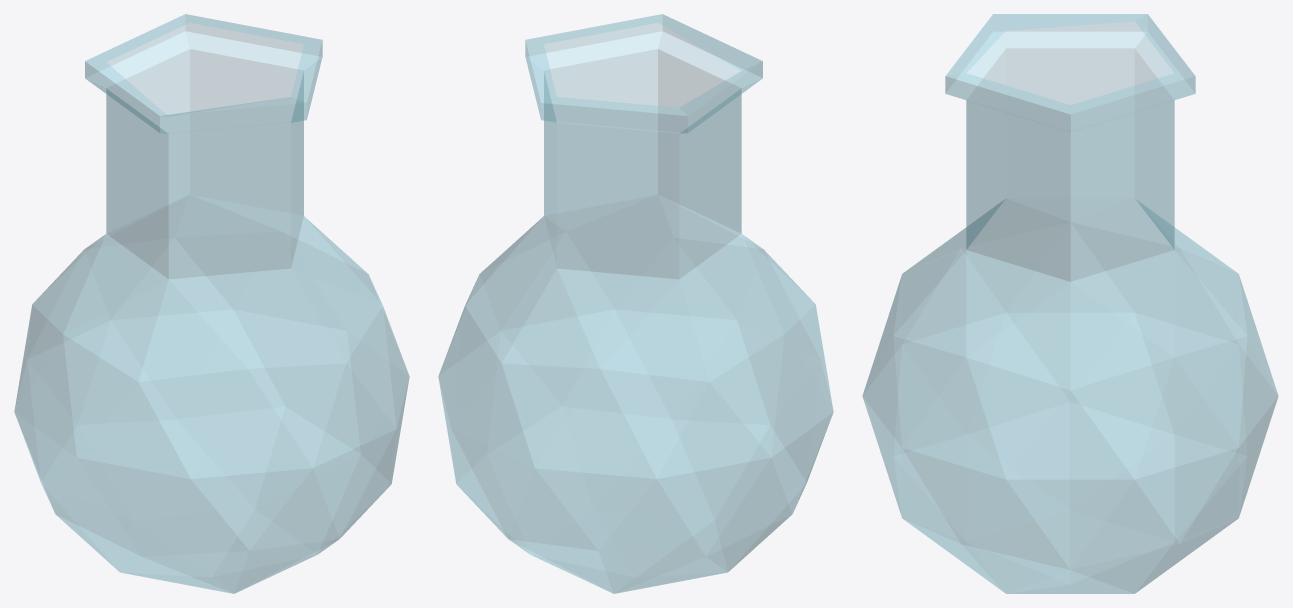
Rendered from Bottle.glb.
The picture shows the model from 3 angles, left to right: view 1: azimuth 30°, elevation 25°; view 2: azimuth 150°, elevation 25°; view 3: azimuth 270°, elevation 25°; orthographic projection. The views are drawn at different scales.
Parts seen in each view (by area): view 1: Icosphere; view 2: Icosphere; view 3: Icosphere.
Boxes of the visible parts, left/top/right/bottom form: Icosphere: left=14, top=14, right=409, bottom=593; Icosphere: left=438, top=14, right=833, bottom=593; Icosphere: left=862, top=14, right=1278, bottom=593.
Bounding box in the file's own units: 0.1504 × 0.2204 × 0.1581.
